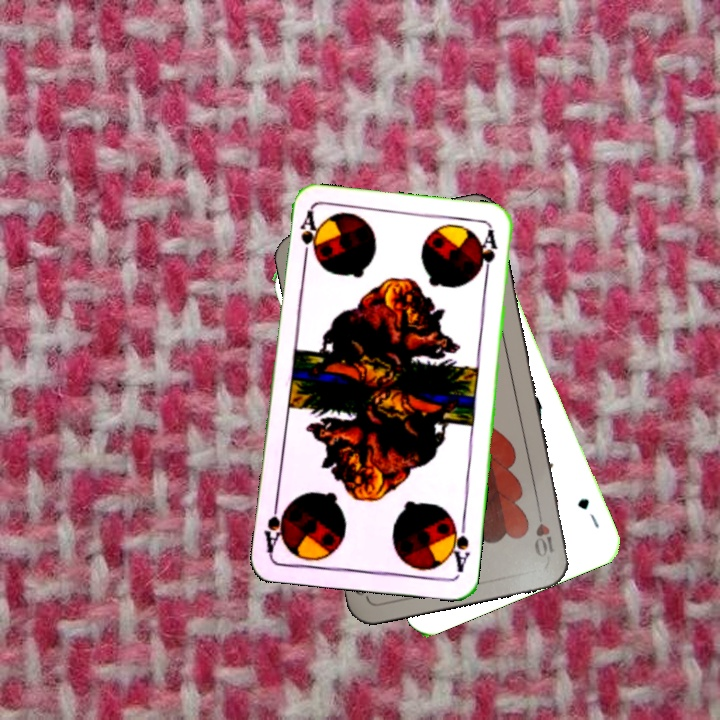GU: (573, 494, 602, 531)
H10: (531, 502, 556, 560)
SA: (445, 515, 473, 575), (296, 208, 320, 267)
